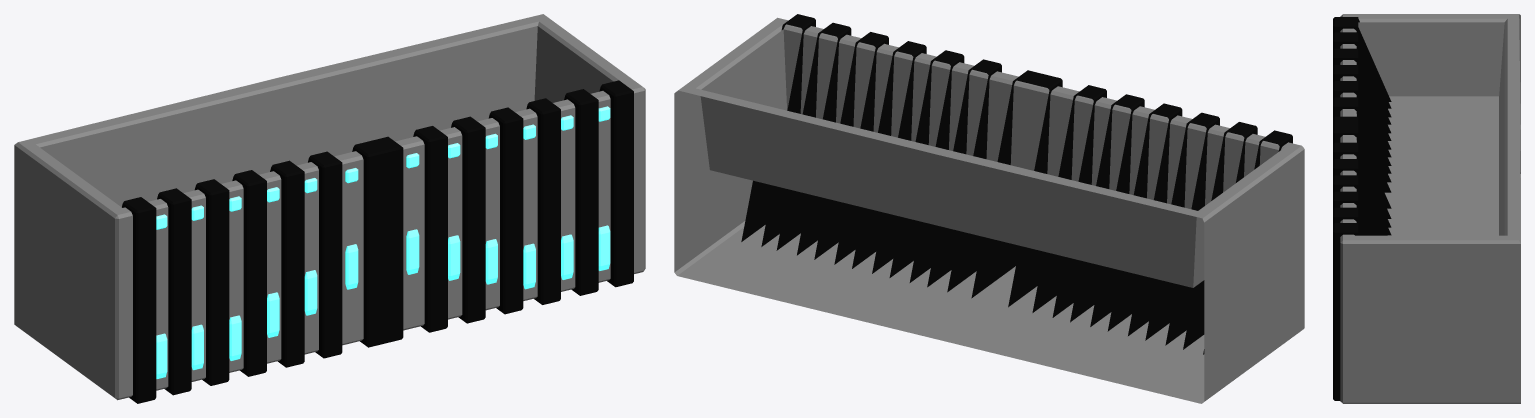
Rendered from PushBlock.fbx.
3 views of the same model, side by side, from view 1: azimuth 30°, elevation 25°; view 2: azimuth 150°, elevation 25°; view 3: azimuth 270°, elevation 25° (orthographic). The views are drawn at different scales.
Visible parts, largest first — view 1: PushBlock; view 2: PushBlock; view 3: PushBlock.
Boxes of the visible parts, bbox=[...] form: PushBlock: bbox=[14, 14, 645, 403]; PushBlock: bbox=[674, 14, 1304, 403]; PushBlock: bbox=[1333, 14, 1520, 403].
Size of the model in its own units: 300 by 104 by 104.
